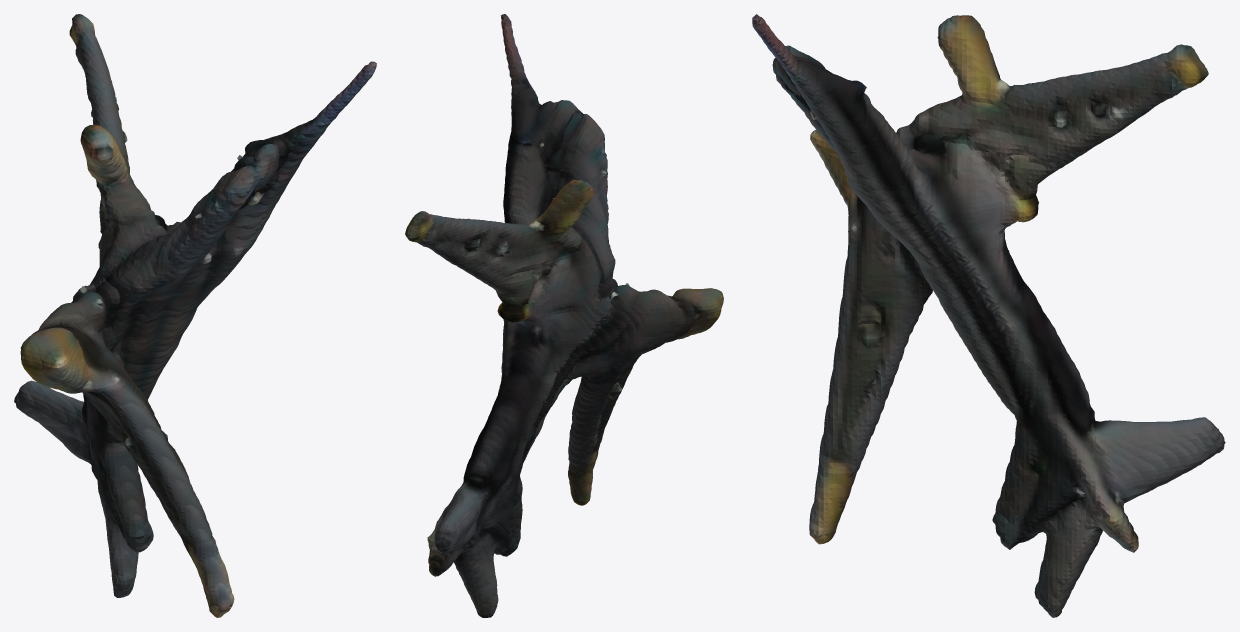
3 views of the same model, side by side, from view 1: azimuth 30°, elevation 25°; view 2: azimuth 150°, elevation 25°; view 3: azimuth 270°, elevation 25° (orthographic). The views are drawn at different scales.
Size of the model in its own units: 0.5585 by 1.04 by 0.6771.
